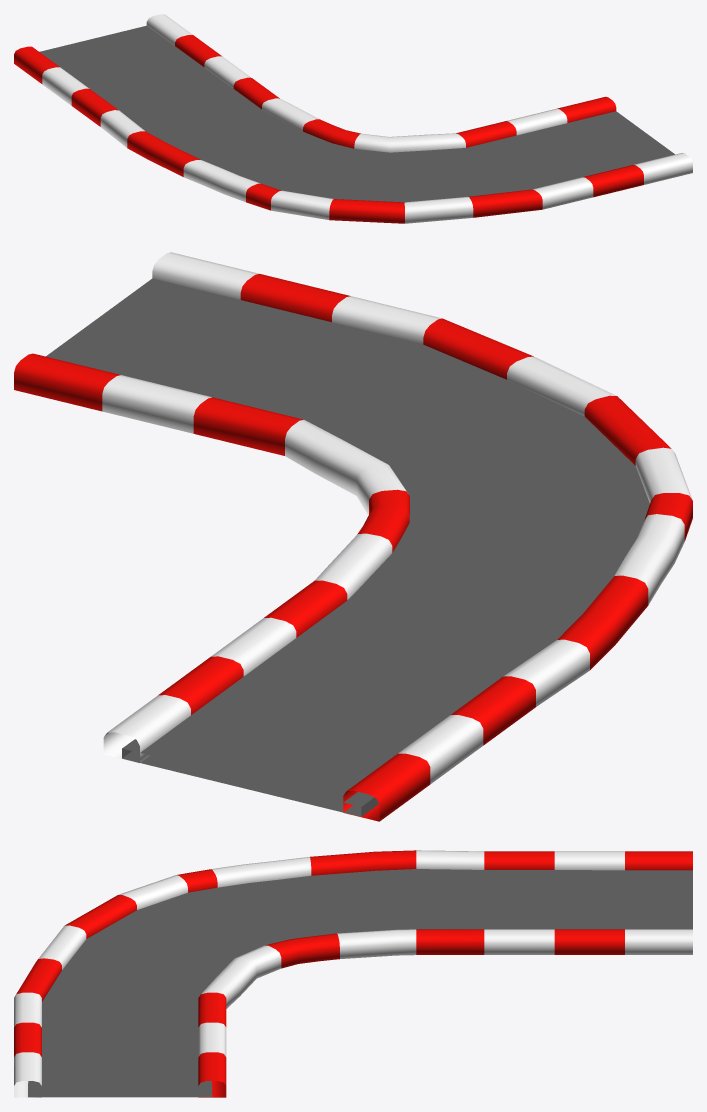
Rendered from CurvedTrack02.fbx.
The picture shows the model from 3 angles, top to bottom: view 1: azimuth 30°, elevation 25°; view 2: azimuth 150°, elevation 25°; view 3: azimuth 270°, elevation 25°; orthographic projection. The views are drawn at different scales.
Parts seen in each view (by area): view 1: CurvedTrack02; view 2: CurvedTrack02; view 3: CurvedTrack02.
Boxes of the visible parts, box(x1,y1,x2,y2) form: CurvedTrack02: box(14, 14, 692, 223); CurvedTrack02: box(14, 252, 692, 821); CurvedTrack02: box(14, 850, 692, 1097).
Bounding box in the file's own units: 5398 × 185 × 6626.
